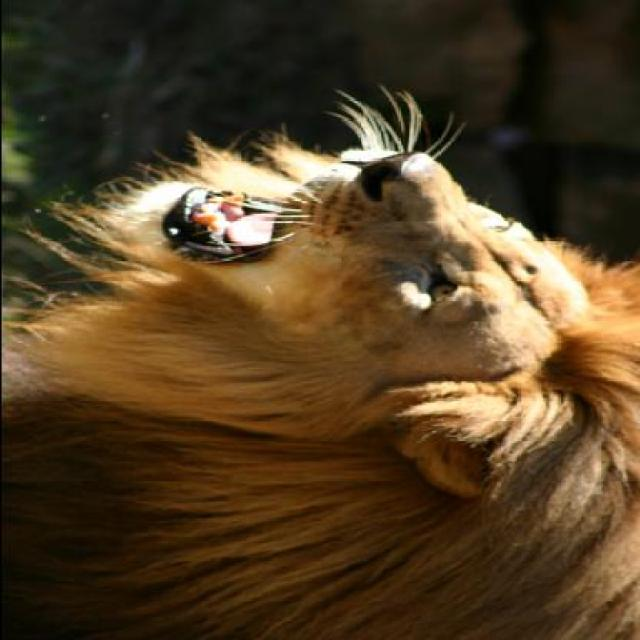Lion: (2, 87, 636, 638)
